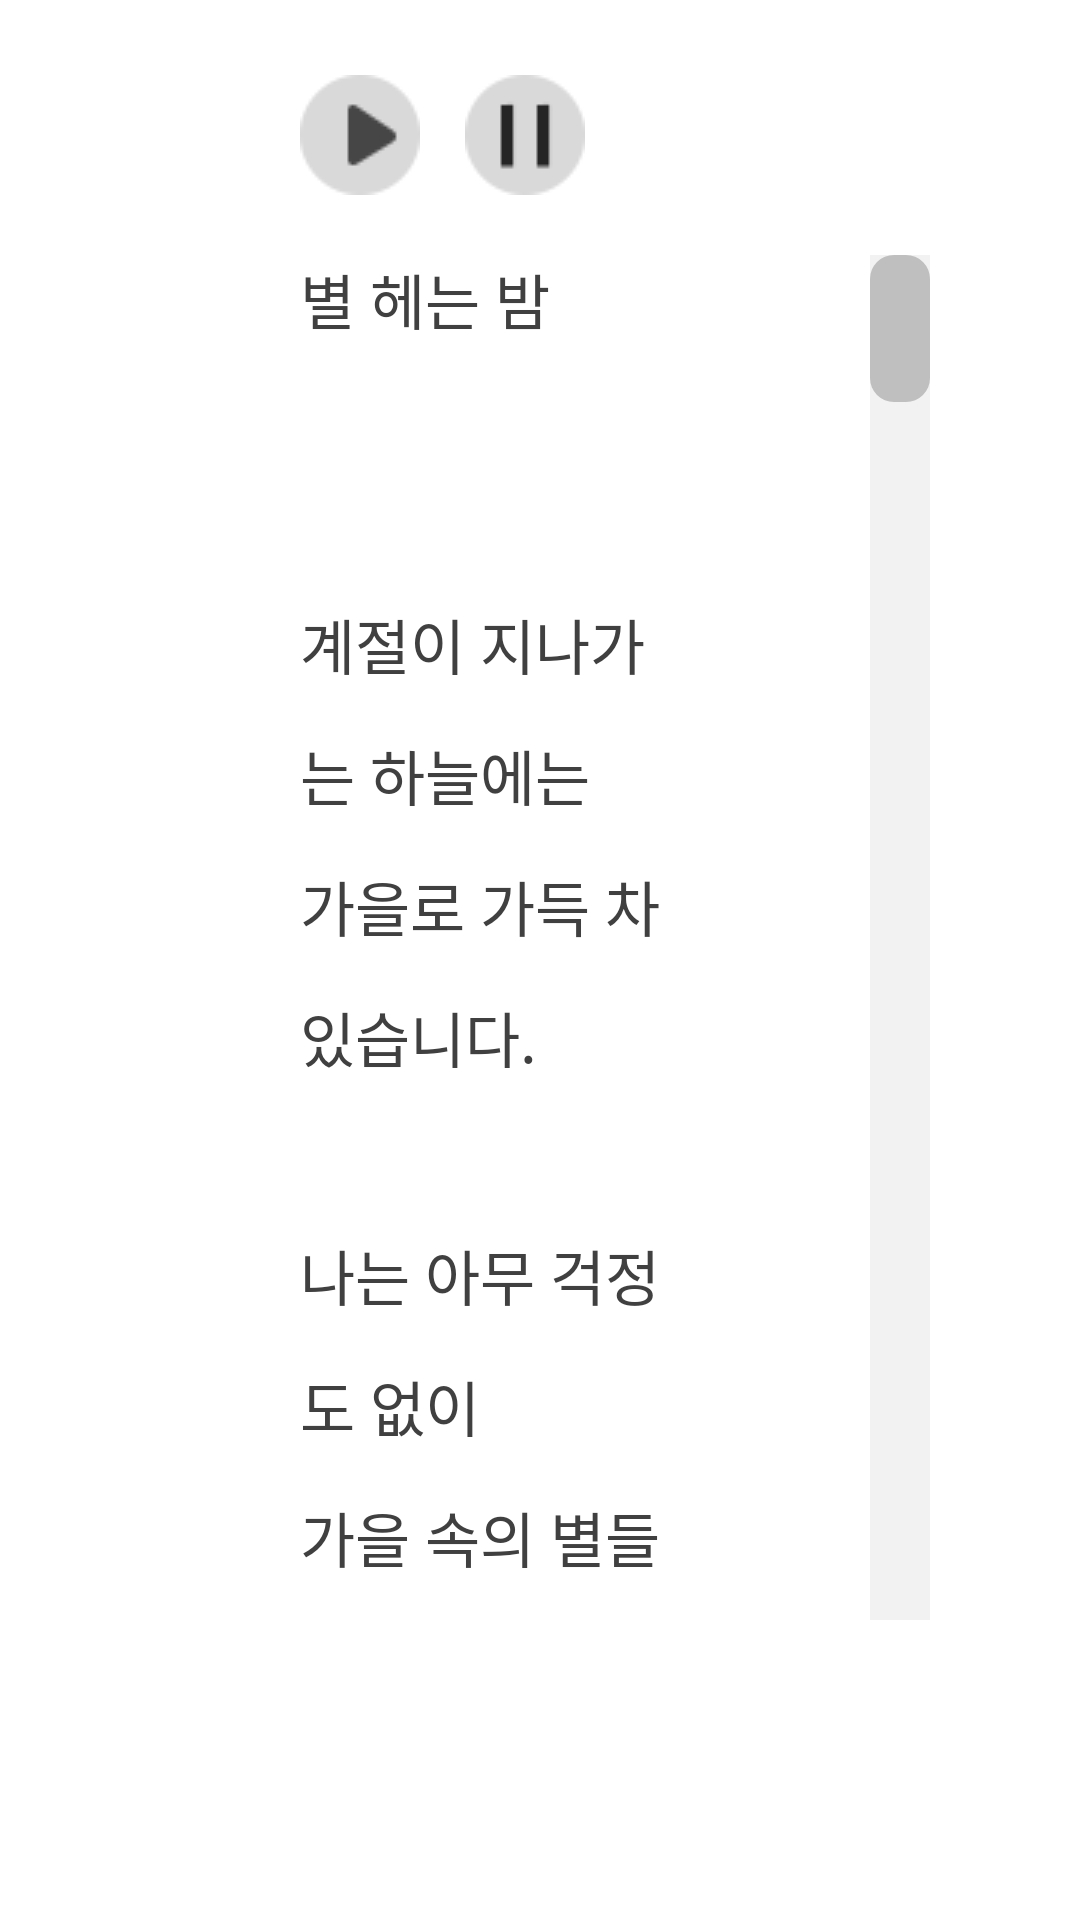

Screen size 1080px x 1920px. Icon name, then its box in pixels as [x1,y1,x2,y2]:
pause: [465,75,585,195]
play: [300,75,420,195]
